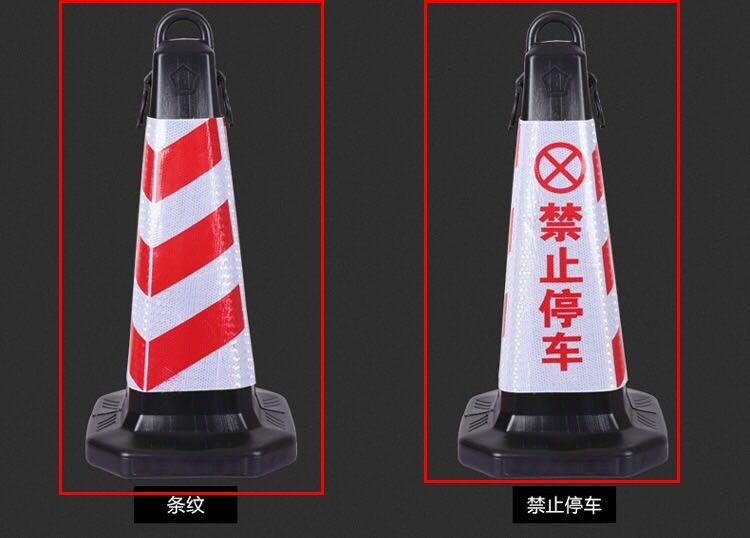traffic_cone: (429, 12, 672, 485), (74, 6, 301, 482)
